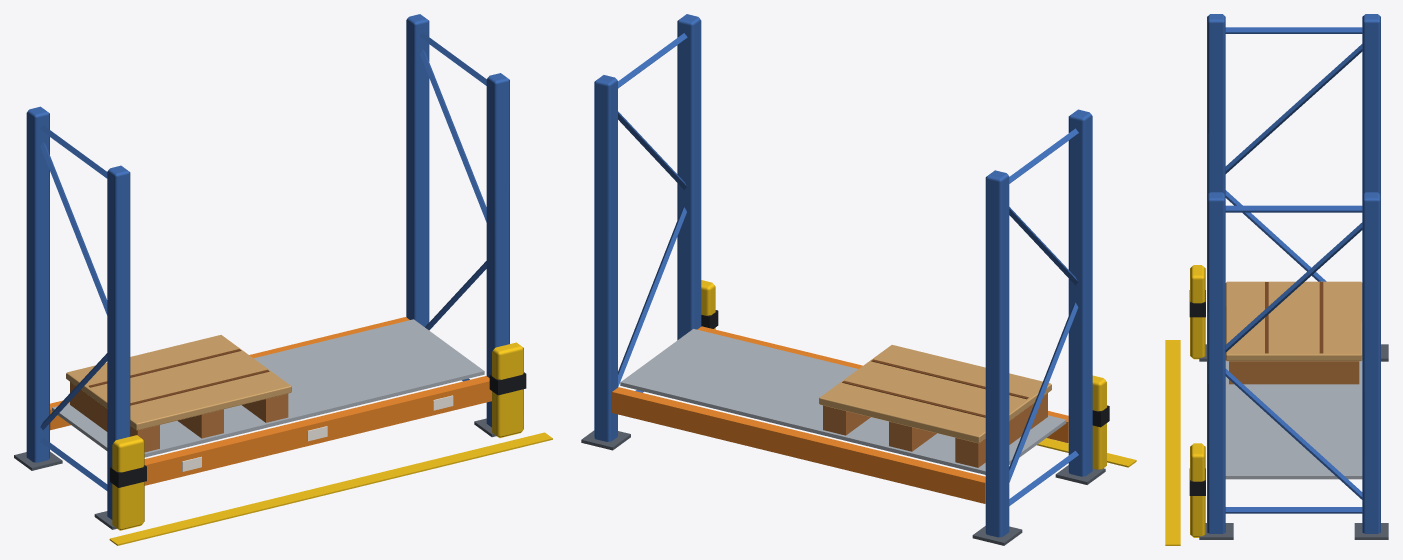
The model's file is station_buffer_basis.glb.
3 views of the same model, side by side, from view 1: azimuth 30°, elevation 25°; view 2: azimuth 150°, elevation 25°; view 3: azimuth 270°, elevation 25° (orthographic). The views are drawn at different scales.
Parts seen in each view (by area): view 1: station_buffer_basis; view 2: station_buffer_basis; view 3: station_buffer_basis.
Part boxes in pixels (x1=…): station_buffer_basis: x1=14, y1=14, x2=552, y2=545; station_buffer_basis: x1=581, y1=14, x2=1136, y2=545; station_buffer_basis: x1=1165, y1=14, x2=1388, y2=545.
Size of the model in its own units: 1.56 by 1.2 by 0.72.
